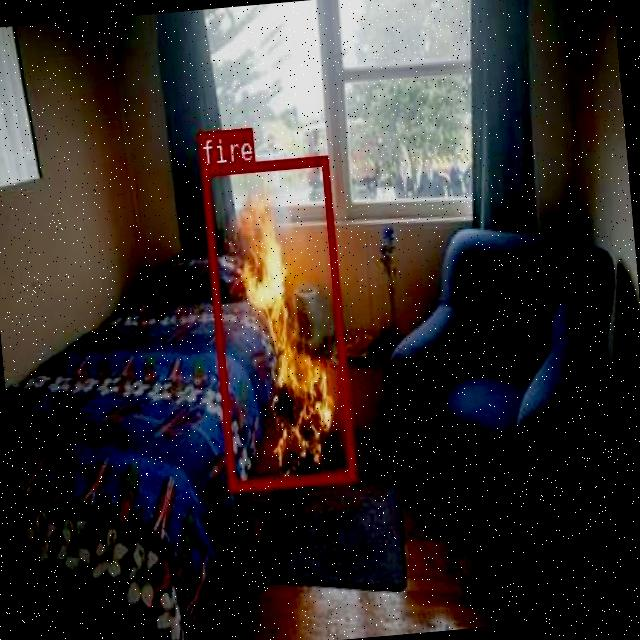fire: (200, 154, 355, 488)
